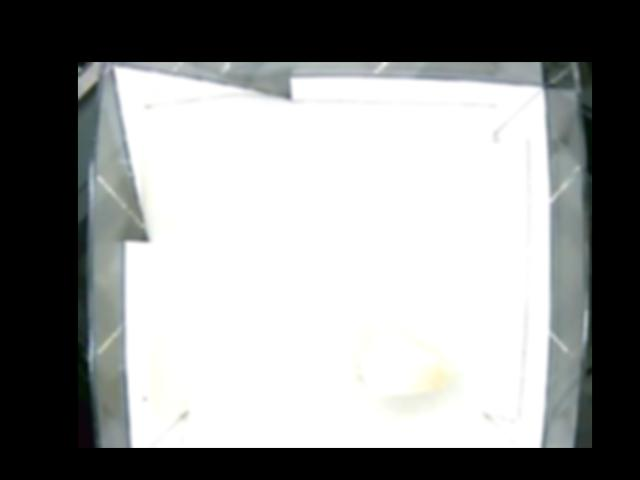Mooli: (353, 321, 453, 396)
